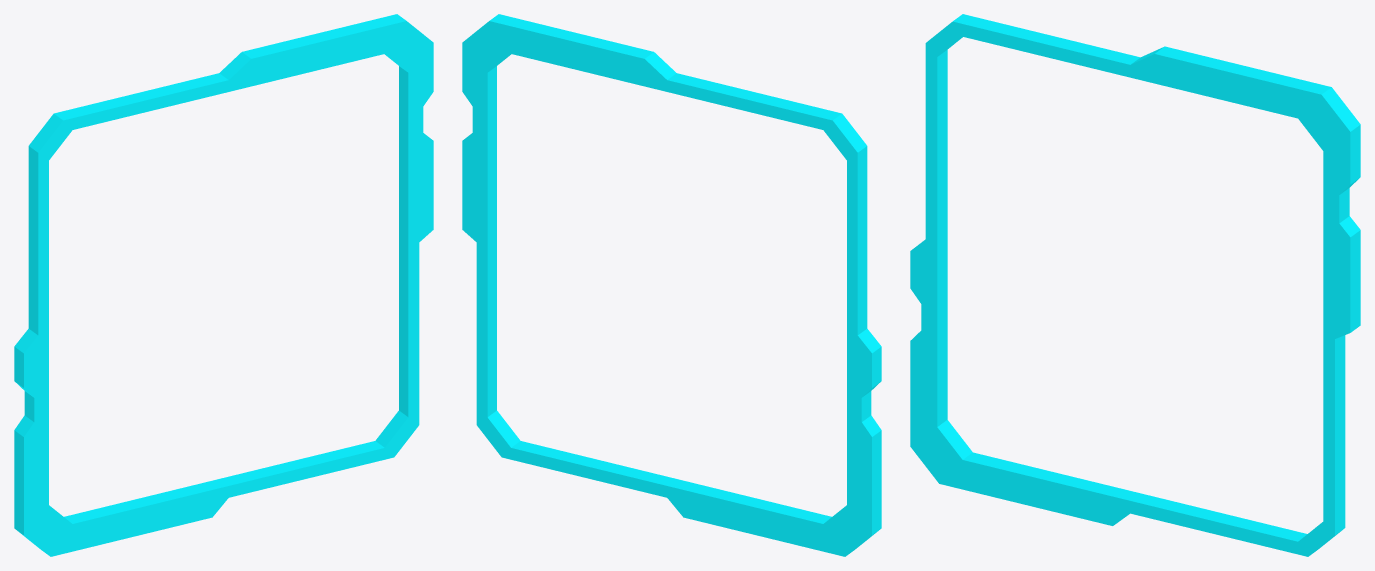
File: SM_Hud_Box_03.glb
The picture shows the model from 3 angles, left to right: view 1: azimuth 30°, elevation 25°; view 2: azimuth 150°, elevation 25°; view 3: azimuth 330°, elevation 25°; orthographic projection. The views are drawn at different scales.
Visible parts, largest first — view 1: SM_Hud_Box_03; view 2: SM_Hud_Box_03; view 3: SM_Hud_Box_03.
Boxes of the visible parts, x1,y1,x2,y2 form: SM_Hud_Box_03: (14, 14, 433, 556); SM_Hud_Box_03: (462, 14, 881, 556); SM_Hud_Box_03: (910, 14, 1360, 556).
Bounding box in the file's own units: 0.312 × 0.3267 × 0.0126.
